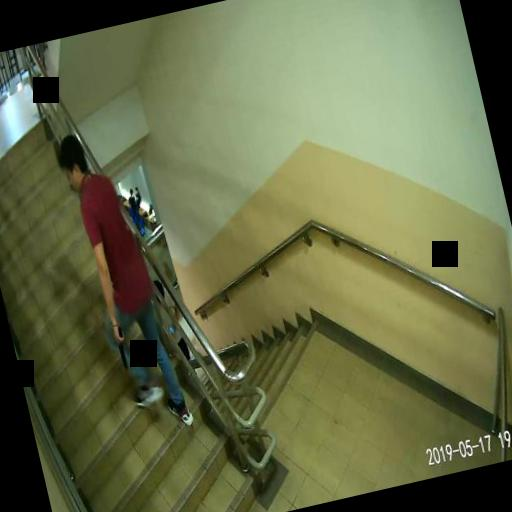Handgun: (110, 324, 130, 368)
